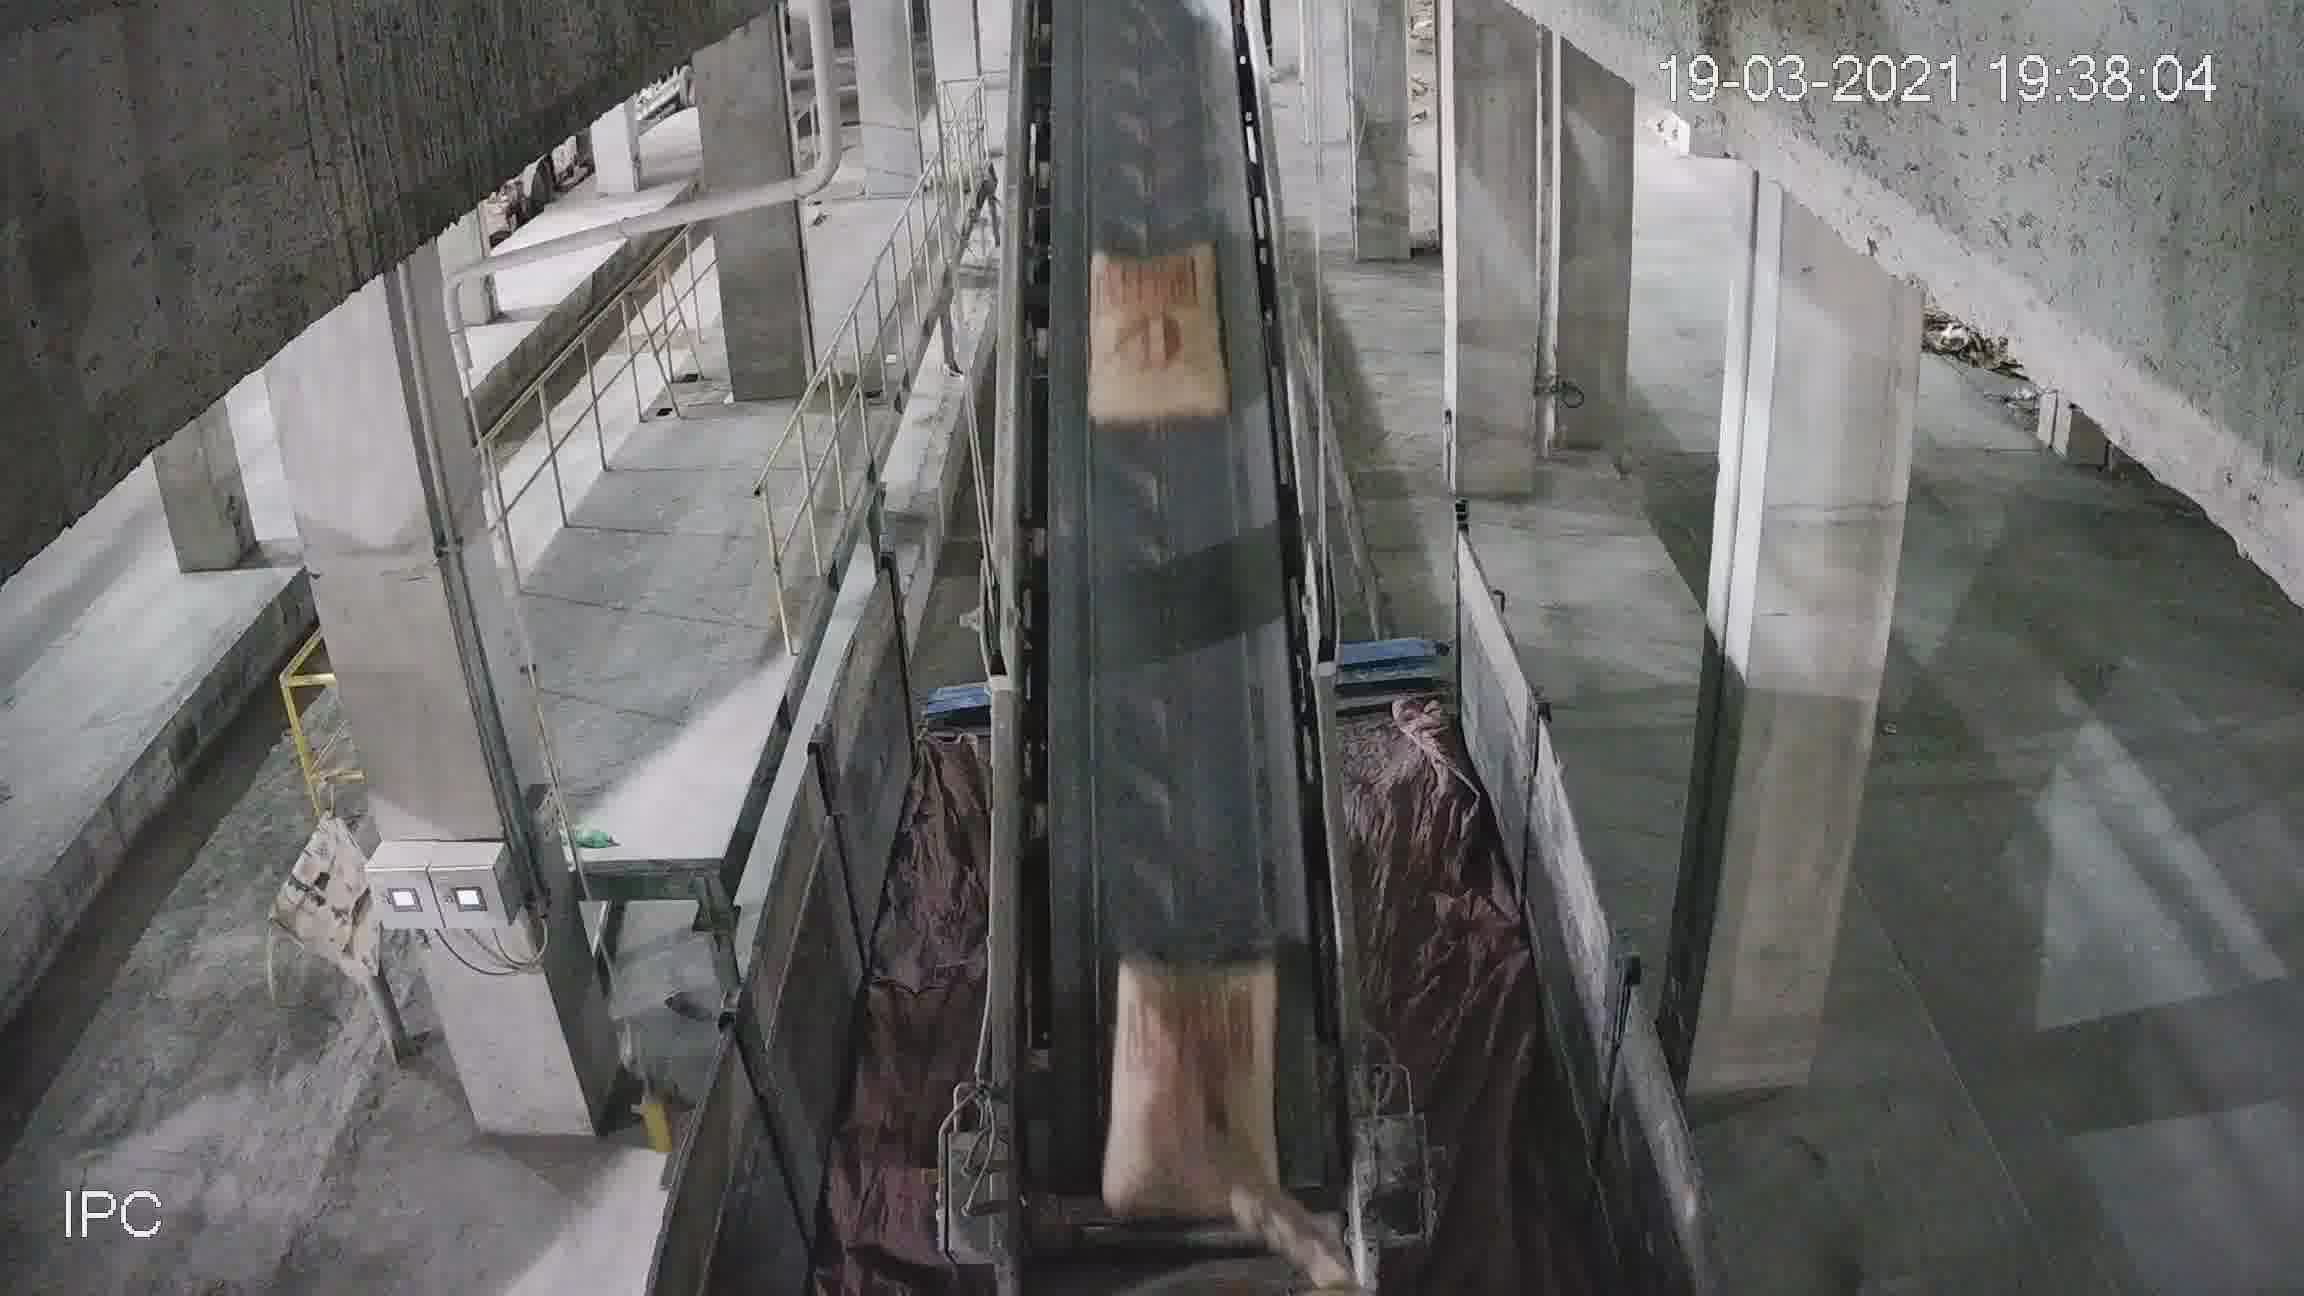bag: (1117, 951, 1272, 1165), (1087, 255, 1218, 426)
belt: (989, 52, 1347, 1157)
